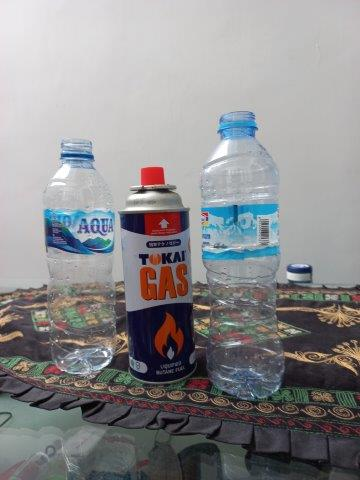botolplastik: (200, 111, 284, 399), (43, 138, 115, 374)
